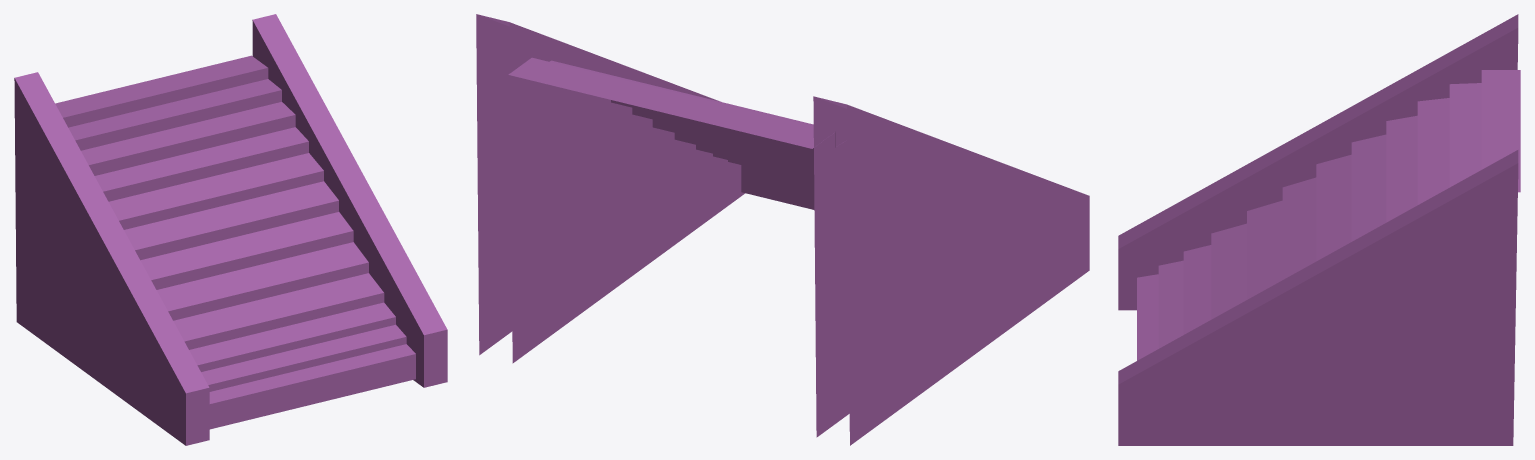
The model's file is Escaleras.fbx.
3 views of the same model, side by side, from view 1: azimuth 30°, elevation 25°; view 2: azimuth 150°, elevation 25°; view 3: azimuth 270°, elevation 25° (orthographic). The views are drawn at different scales.
Visible parts, largest first — view 1: Escaleras1, BordesEscaleras1; view 2: BordesEscaleras1, Escaleras1; view 3: BordesEscaleras1, Escaleras1.
Part boxes in pixels (box(x1,y1,x2,y2)): Escaleras1: box(55, 55, 415, 429); BordesEscaleras1: box(14, 14, 447, 445); BordesEscaleras1: box(476, 14, 1089, 445); Escaleras1: box(508, 57, 843, 209); BordesEscaleras1: box(1118, 14, 1518, 445); Escaleras1: box(1137, 70, 1520, 360).
Size of the model in its own units: 393 by 348 by 448.
